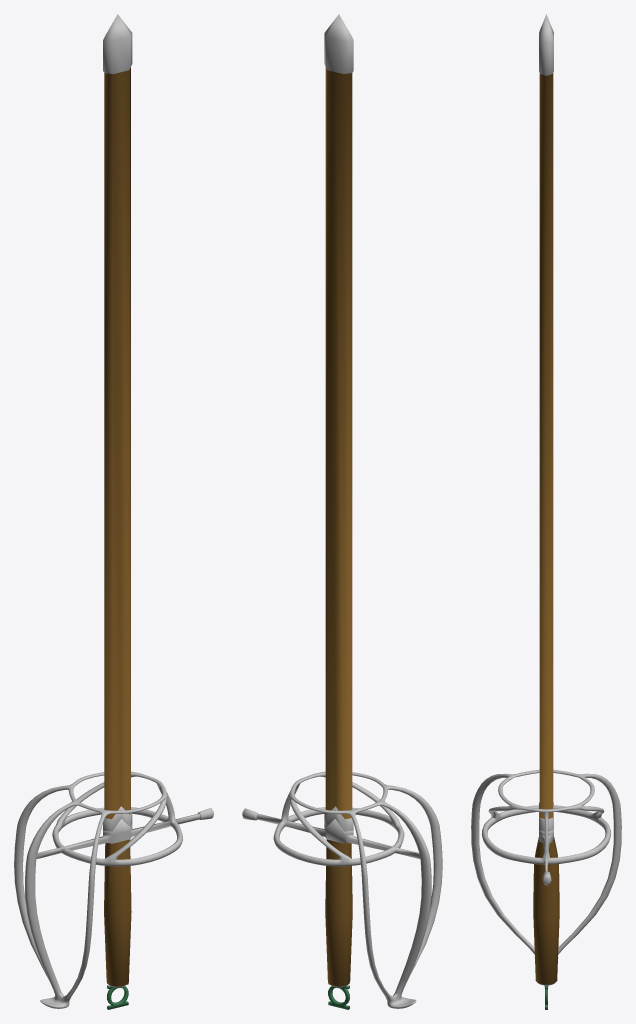
Rendered from rapier&scabbard.fbx.
The picture shows the model from 3 angles, left to right: view 1: azimuth 30°, elevation 25°; view 2: azimuth 150°, elevation 25°; view 3: azimuth 270°, elevation 25°; orthographic projection.
Visible parts, largest first — view 1: scabbard, rapier -.25y; view 2: scabbard, rapier -.25y; view 3: scabbard, rapier -.25y.
Part boxes in pixels (x1,y1,x2,y2): scabbard: [103, 14, 132, 831]; rapier -.25y: [14, 771, 213, 1009]; scabbard: [324, 14, 353, 831]; rapier -.25y: [242, 771, 442, 1009]; scabbard: [539, 14, 553, 831]; rapier -.25y: [471, 769, 621, 1009].
Bounding box in the file's own units: 29.91 × 152 × 20.92.
